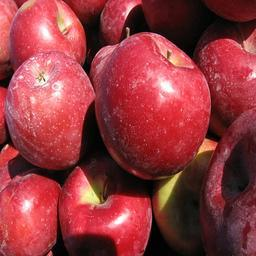apple: (95, 32, 216, 180), (4, 53, 95, 169), (56, 158, 153, 253), (196, 109, 256, 256), (152, 137, 221, 254), (197, 21, 256, 134), (8, 1, 89, 71), (1, 170, 63, 256), (98, 1, 145, 44)
